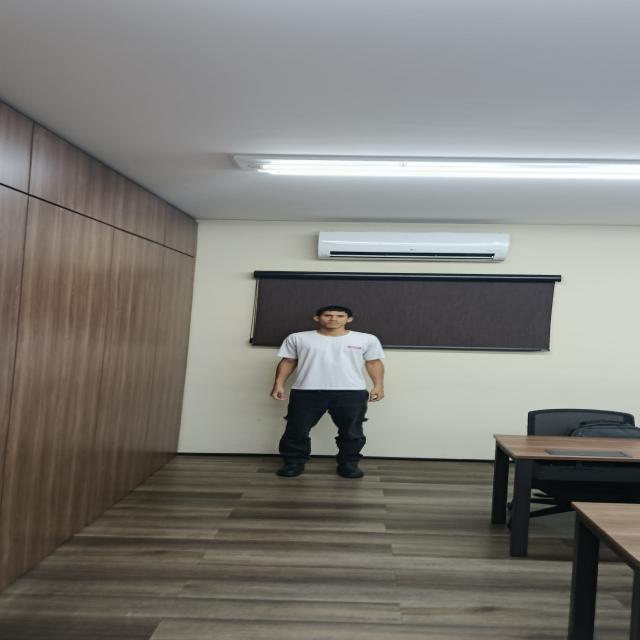sem_oculos: (314, 313, 354, 319)
